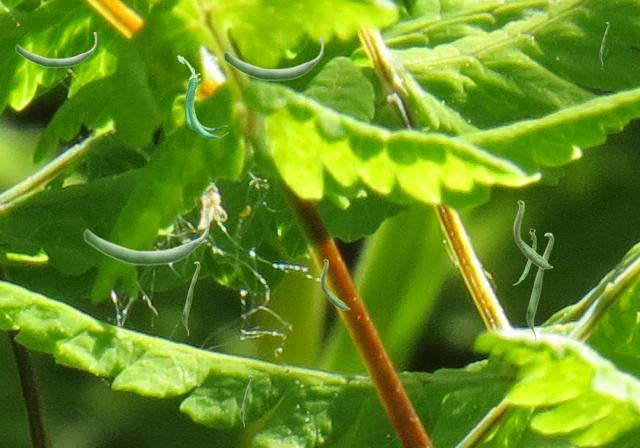french_bean: (83, 210, 209, 265), (223, 36, 323, 80), (177, 55, 227, 138), (526, 232, 553, 342), (15, 32, 96, 67), (513, 199, 552, 268), (320, 258, 349, 309), (512, 228, 535, 284), (182, 261, 199, 335), (240, 375, 251, 426), (599, 22, 608, 64)
